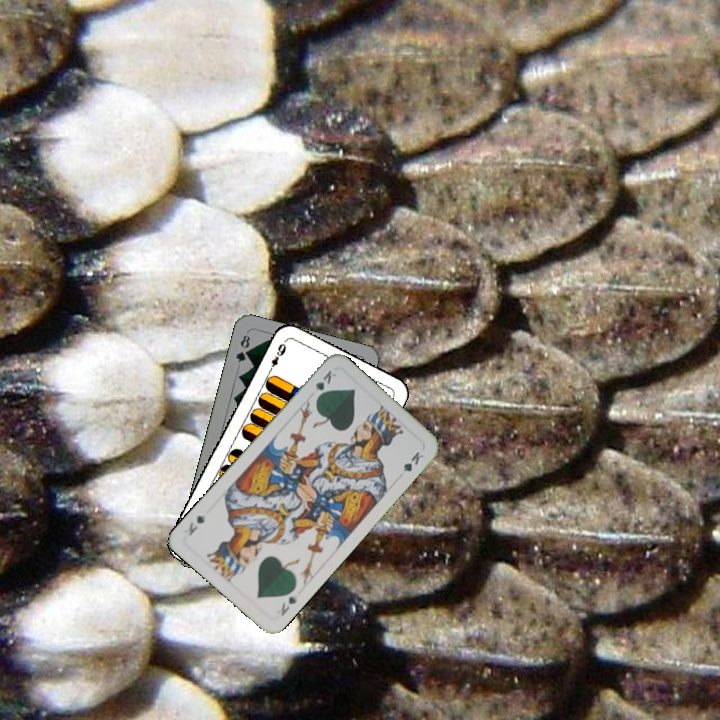E9: (264, 339, 289, 376)
G8: (232, 331, 253, 365)
GK: (311, 366, 339, 402), (277, 591, 301, 619)
